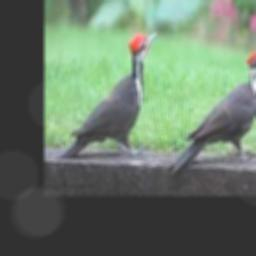Woodpecker: (60, 31, 159, 157), (169, 49, 256, 173)
